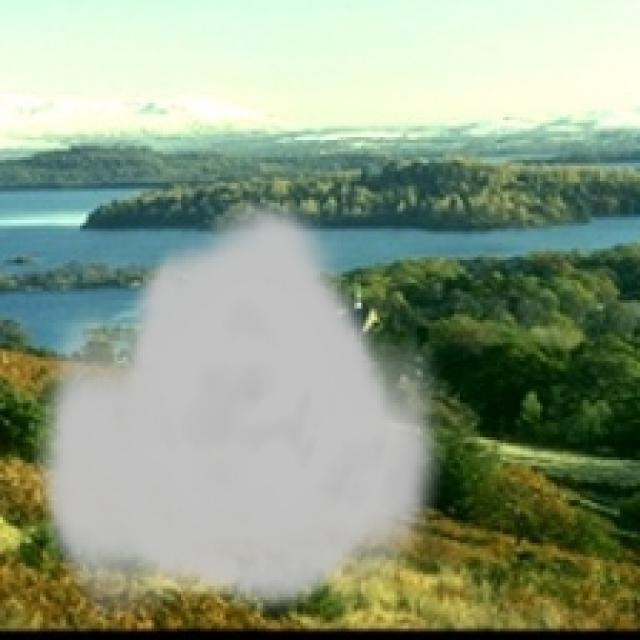Smoke: (32, 194, 454, 617)
